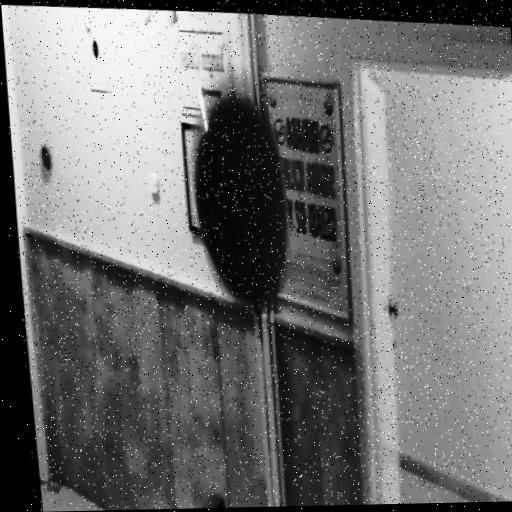balloon: (181, 84, 299, 327)
